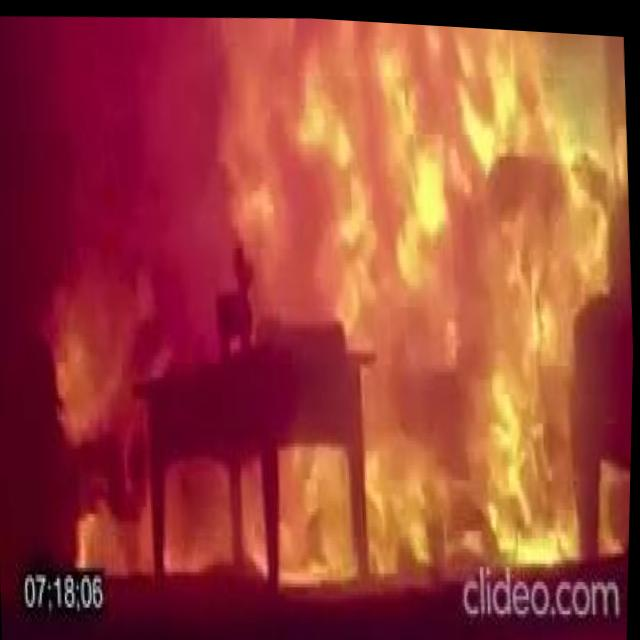fire: (237, 11, 451, 344), (358, 273, 587, 572), (430, 20, 636, 285), (50, 234, 149, 445), (277, 443, 359, 573), (64, 493, 158, 575), (166, 462, 235, 573), (240, 457, 273, 574)
